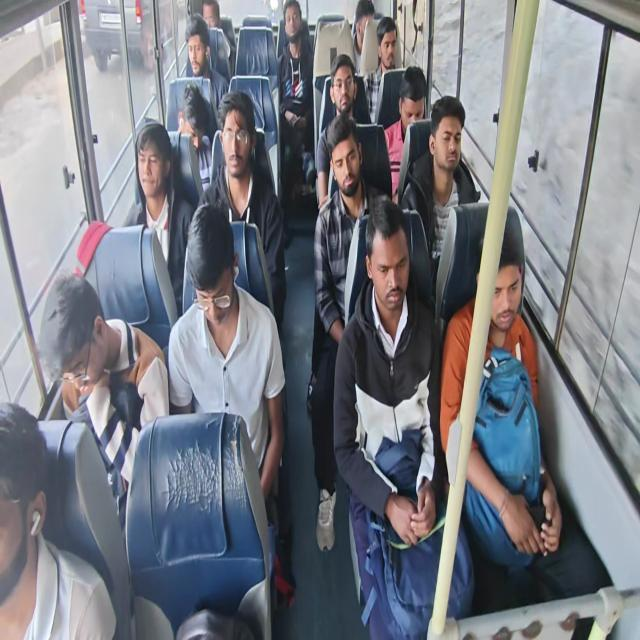person: (0, 406, 56, 584), (46, 305, 110, 398), (466, 247, 528, 337), (185, 238, 238, 330), (371, 231, 406, 316), (437, 106, 470, 176), (132, 141, 168, 197), (329, 131, 359, 198), (222, 114, 248, 176), (401, 84, 426, 137), (182, 102, 205, 154), (330, 65, 354, 113), (198, 0, 225, 36), (276, 5, 302, 42), (356, 6, 376, 46), (381, 32, 400, 68), (187, 36, 204, 76)
